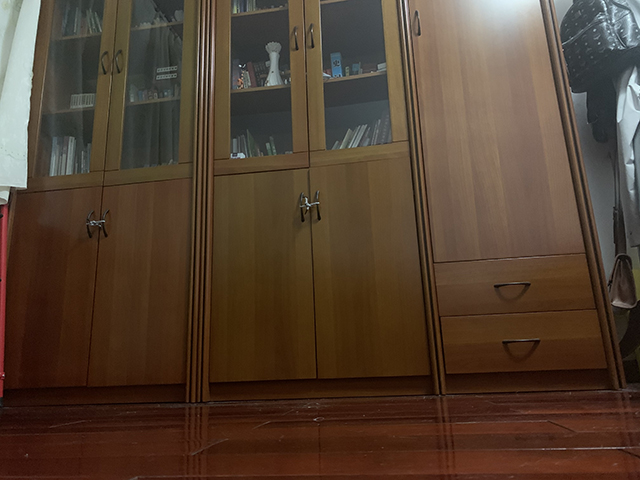cabinet: (1, 154, 593, 406)
